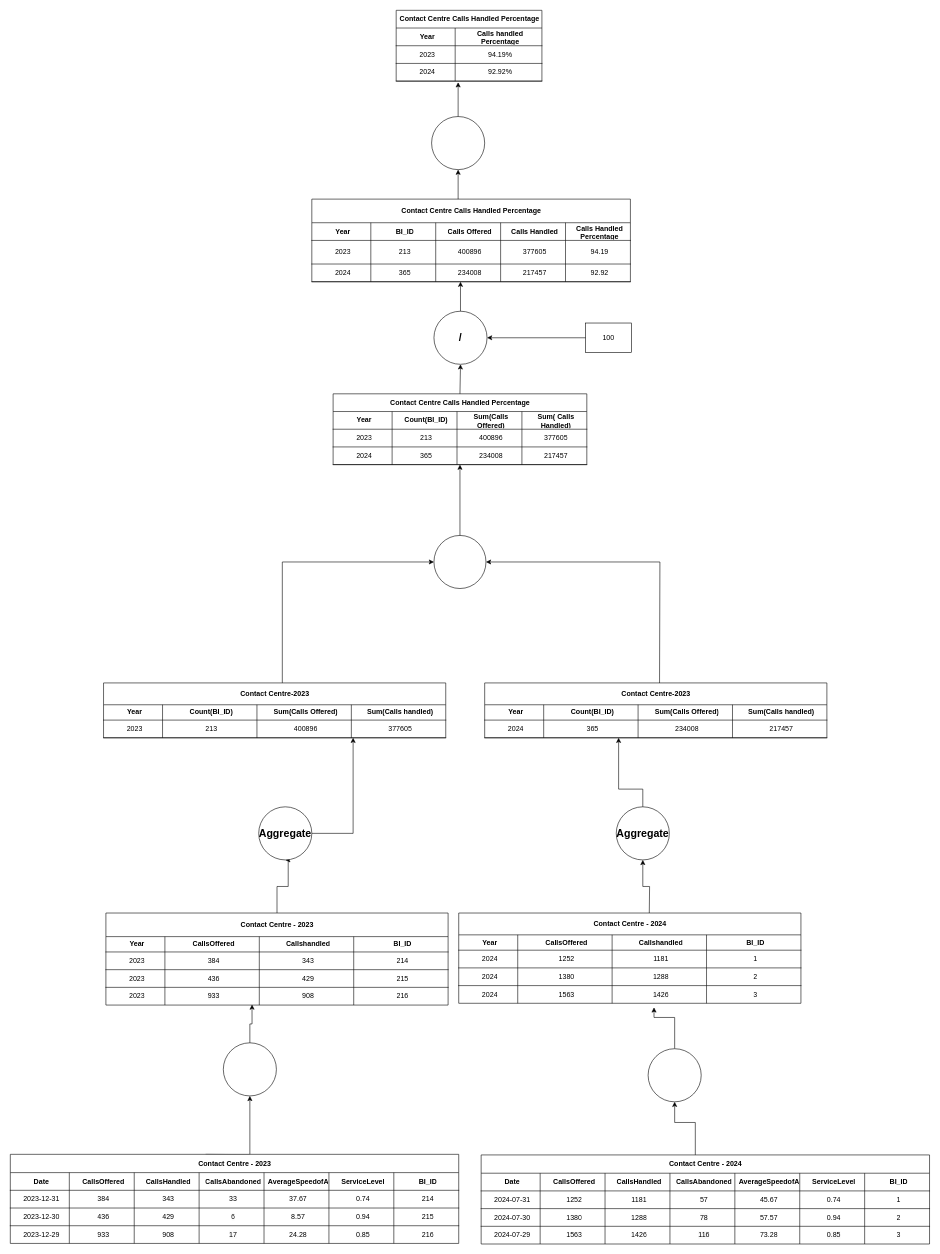
This 940x1254 diagram has some shape labels left out. Here are the shapes that lost their labels. From the top down, the centre of each, then its label:
(458,143): Remove Coloumn
(459,562): Union
(249,1069): Remove Coloumns
(674,1075): Remove Columns
